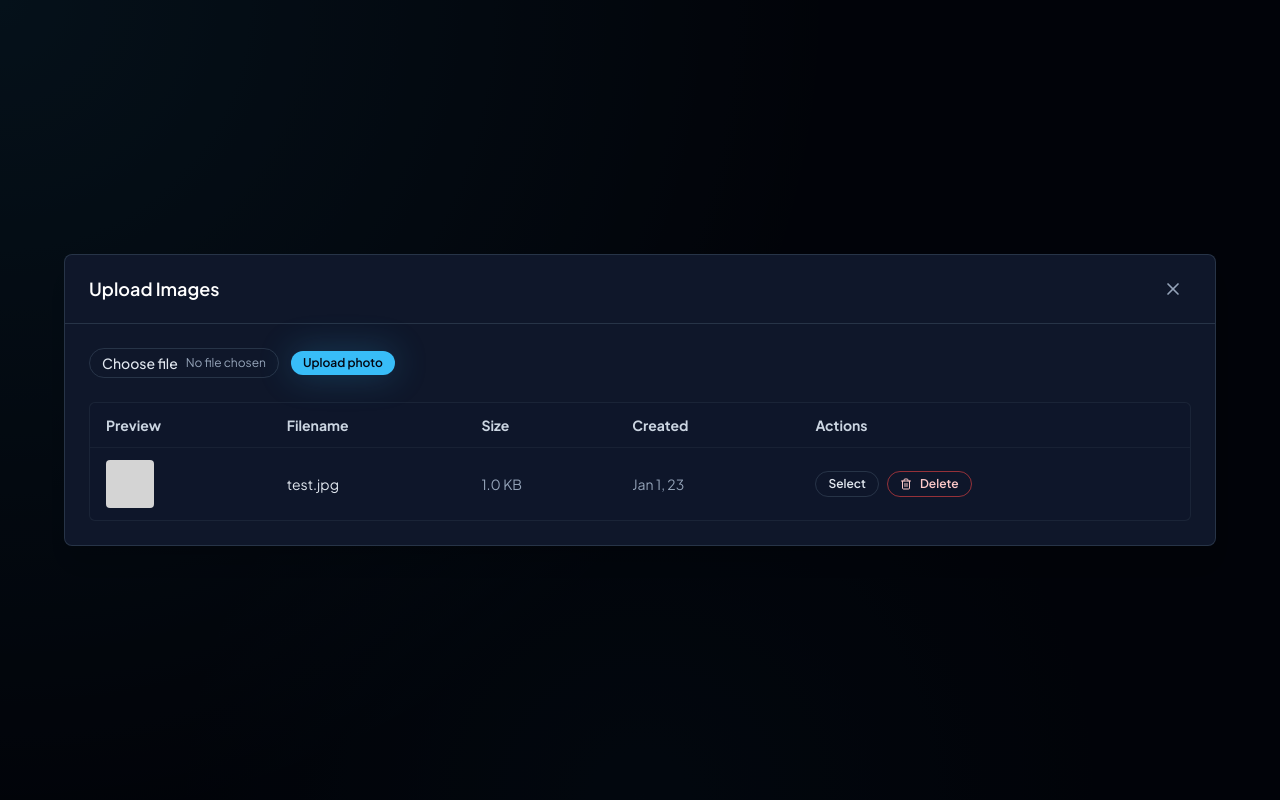
Test: ImageUploaderModal › cancels delete confirmation
Check: the text "test.jpg" is shown, box [271,448,465,520]
// Click delete button in table
Click the button "Delete": (929, 484) [887,471,972,497]
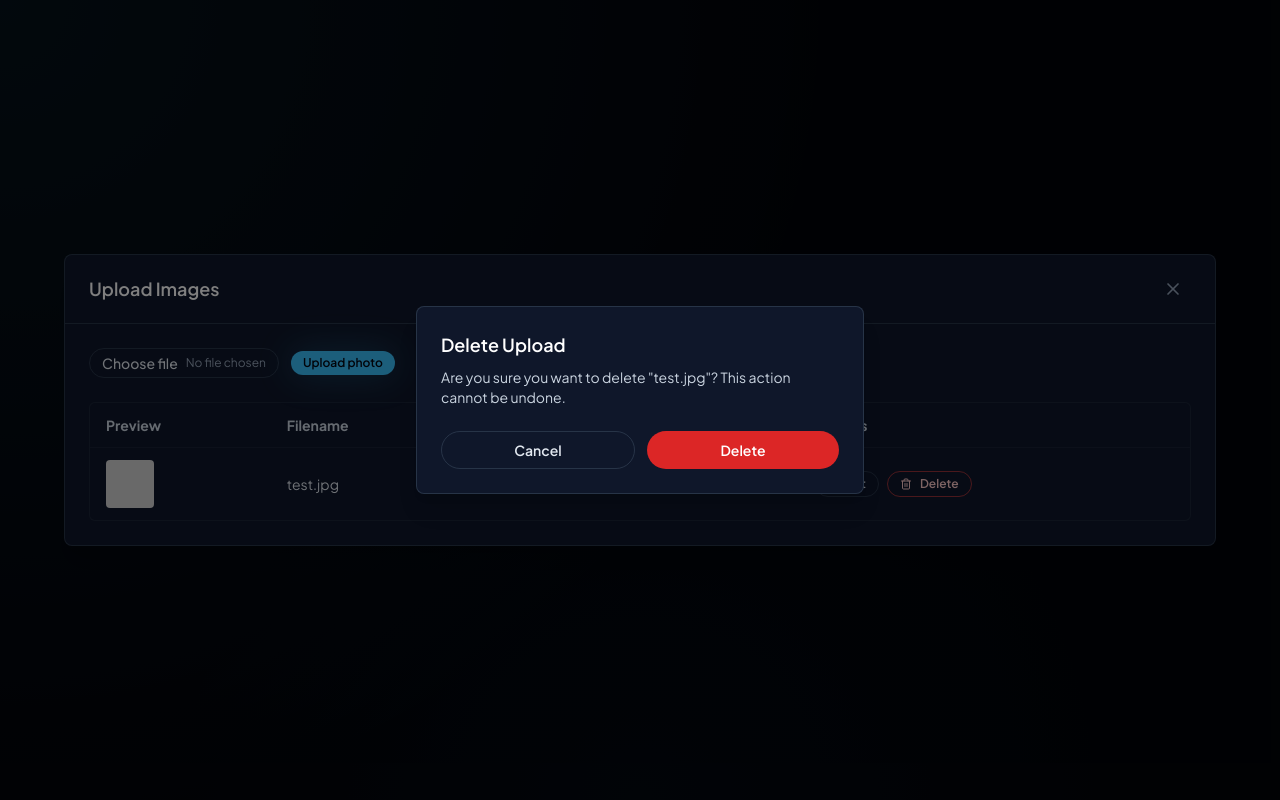
// Cancel delete - find cancel button
Click the button "Cancel": (538, 450) [441,431,635,469]
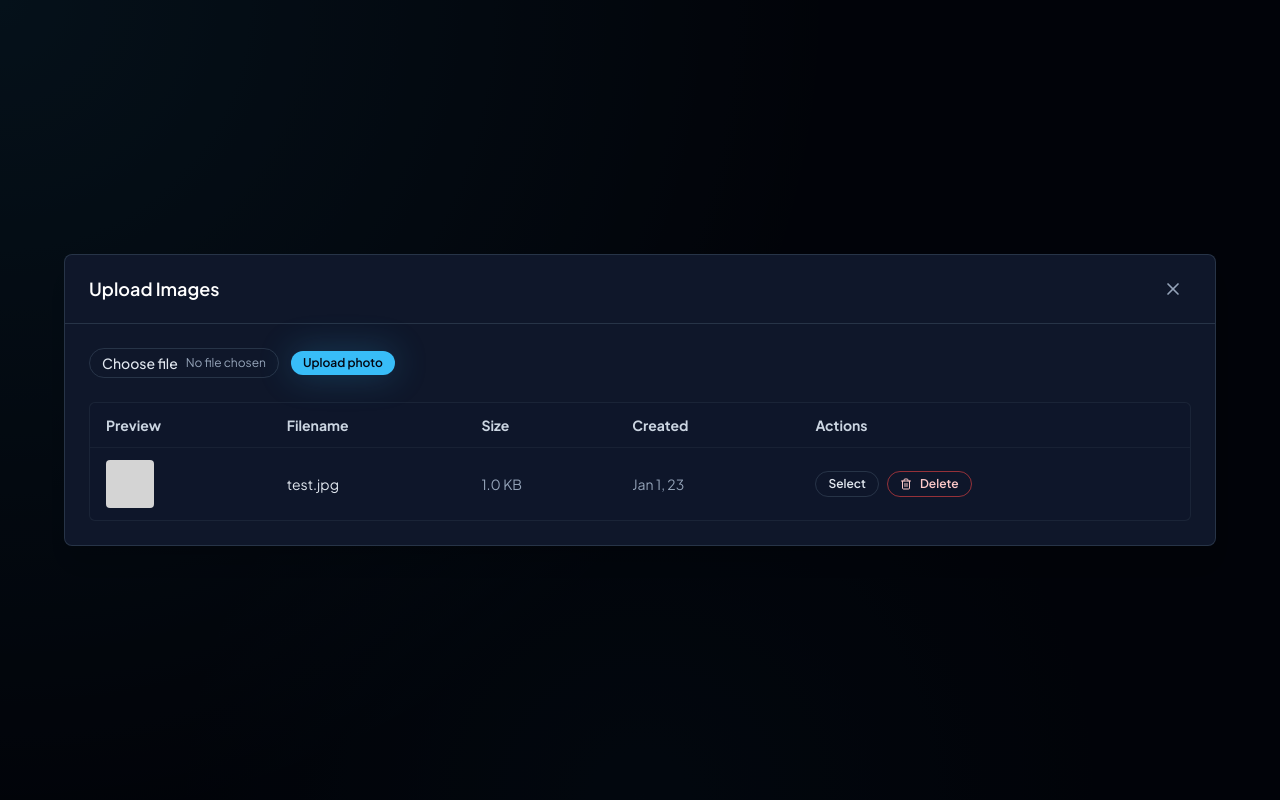
Check: the heading "Delete Upload" is gone
